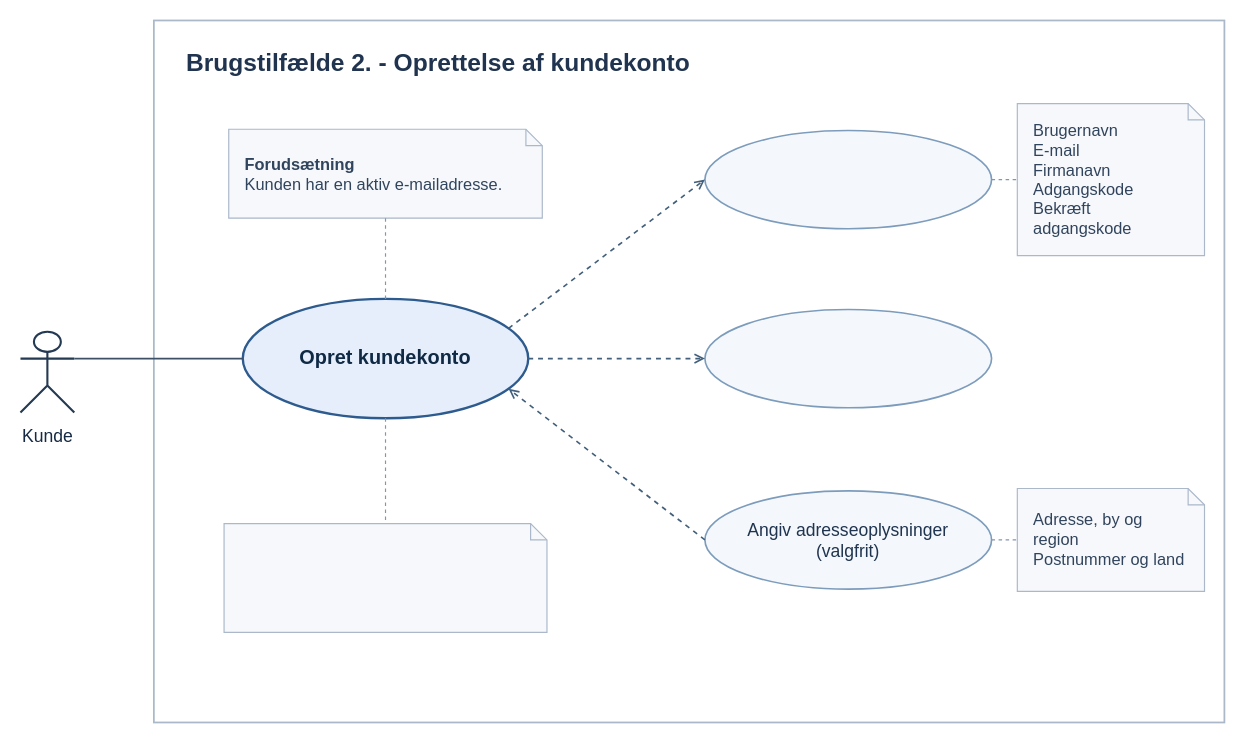
The diagram is 1246 pixels wide and 744 high, and some of its shapes have lost their labels. The centre of each missing label's shape, as x and y in pixels:
"Angiv kontooplysninger" belongs at [848,179].
"Godkend oprettelsen" belongs at [848,358].
"Resultat Kunden bliver logget ind og sendt til forsiden." belongs at [385,577].
